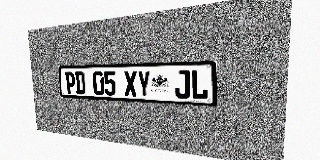0: (92, 71, 104, 95)
5: (104, 71, 116, 96)
D: (74, 71, 86, 94)
J: (174, 70, 190, 99)
L: (191, 69, 208, 100)
P: (65, 72, 76, 94)
X: (124, 71, 137, 97)
Y: (137, 70, 151, 97)
